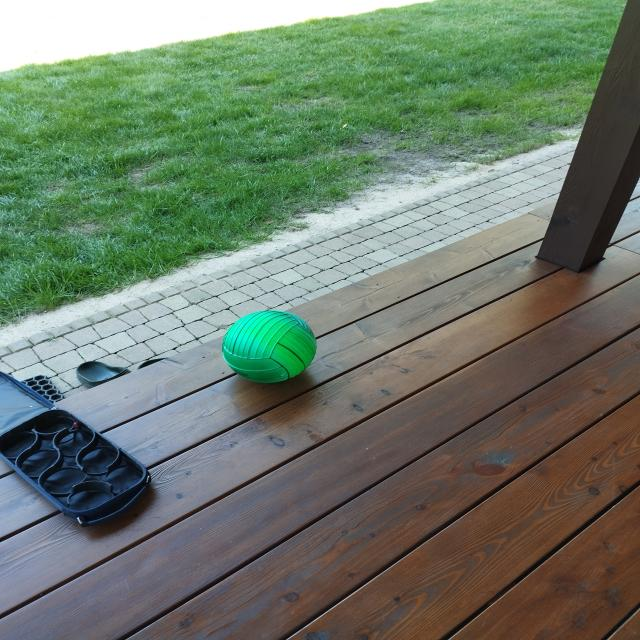zielona: (222, 310, 316, 383)
